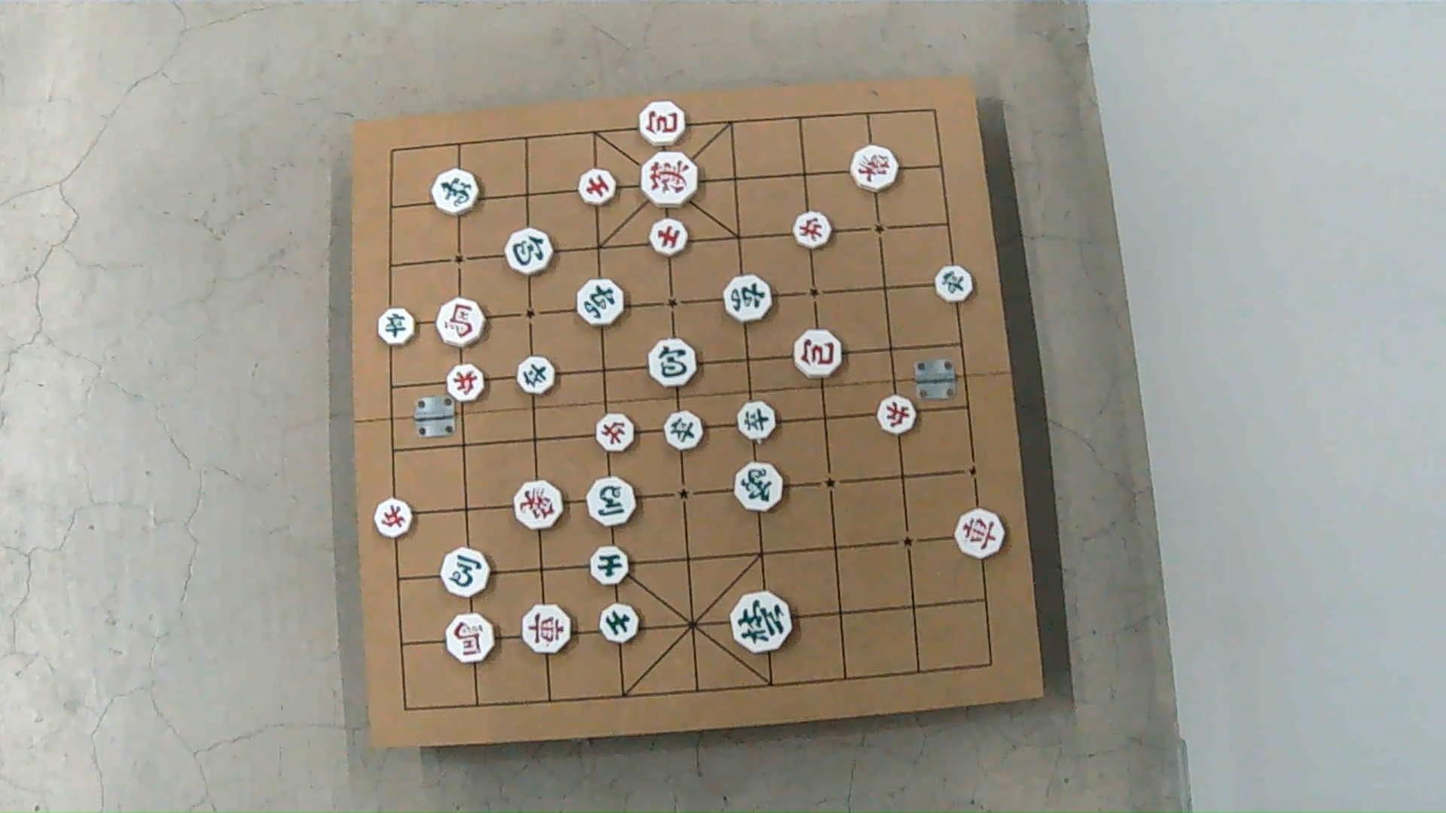cha_green: (723, 277, 773, 324), (576, 278, 624, 325)
cha_red: (954, 509, 1003, 559), (524, 605, 573, 654)
jol_green: (664, 413, 703, 452), (738, 402, 776, 440), (935, 264, 973, 301), (519, 357, 557, 394), (380, 306, 416, 345)
jol_red: (375, 499, 413, 539), (877, 397, 915, 436), (598, 415, 637, 453), (448, 364, 486, 401), (794, 215, 831, 252)
ma_green: (439, 547, 490, 598), (590, 477, 639, 525)
ma_red: (438, 299, 486, 348), (446, 614, 494, 662)
po_green: (508, 227, 556, 275), (646, 338, 695, 385)
po_red: (793, 330, 842, 379), (639, 101, 685, 145)
sa_green: (603, 604, 642, 644), (591, 545, 631, 583)
sa_red: (649, 219, 687, 257), (578, 169, 616, 206)
sang_green: (737, 460, 786, 509), (436, 169, 482, 215)
sang_red: (514, 480, 564, 529), (849, 145, 898, 192)
wang_green: (734, 592, 794, 653)
wang_red: (640, 154, 697, 208)
